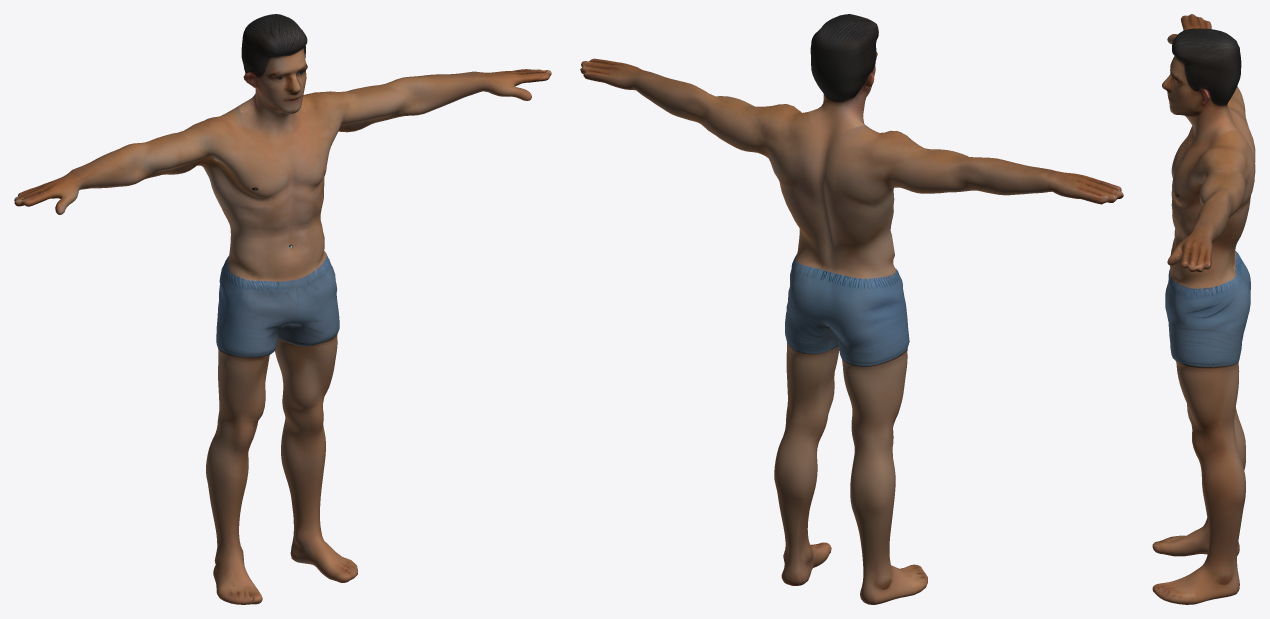
Rendered from human character 3d model.glb.
3 views of the same model, side by side, from view 1: azimuth 30°, elevation 25°; view 2: azimuth 150°, elevation 25°; view 3: azimuth 270°, elevation 25° (orthographic). The views are drawn at different scales.
Visible parts, largest first — view 1: tripo_node_5f13ef5b; view 2: tripo_node_5f13ef5b; view 3: tripo_node_5f13ef5b.
Boxes of the visible parts, bbox=[...] form: tripo_node_5f13ef5b: bbox=[14, 14, 551, 604]; tripo_node_5f13ef5b: bbox=[580, 14, 1123, 604]; tripo_node_5f13ef5b: bbox=[1152, 14, 1255, 604].
Bounding box in the file's own units: 99.99 × 99.53 × 17.11.
Materials: 1 (1 with a texture image).
